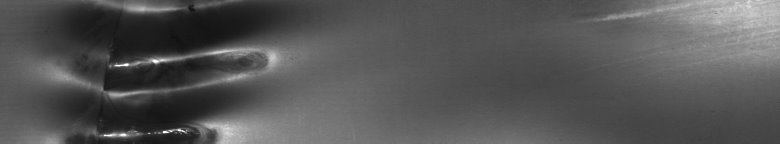ke: (44, 4, 282, 136)
